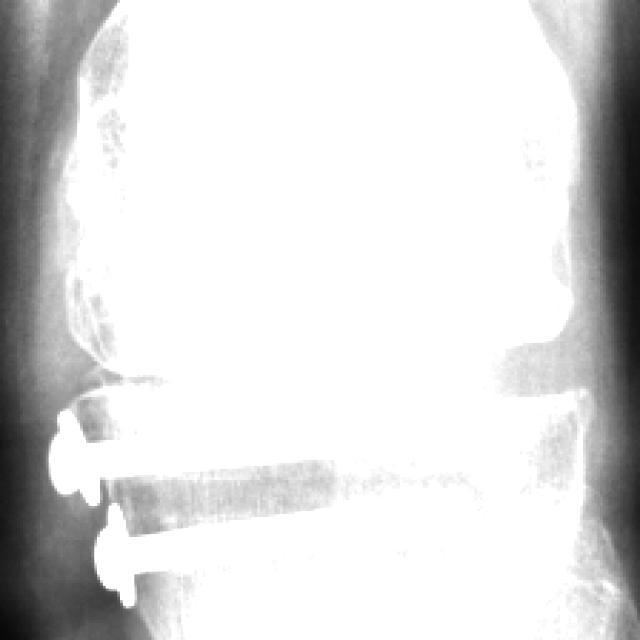femur: (63, 0, 584, 375)
tibia: (47, 323, 596, 640)
